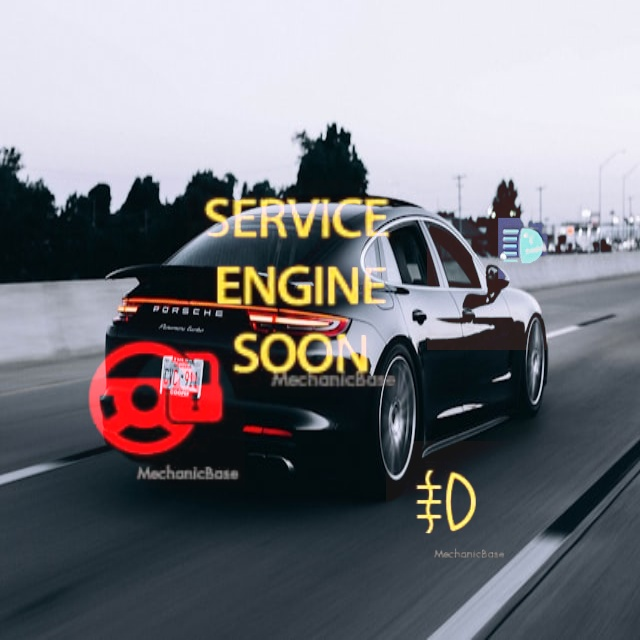symbol: (187, 180, 404, 397), (427, 157, 620, 350), (68, 311, 245, 488), (386, 441, 509, 564)
